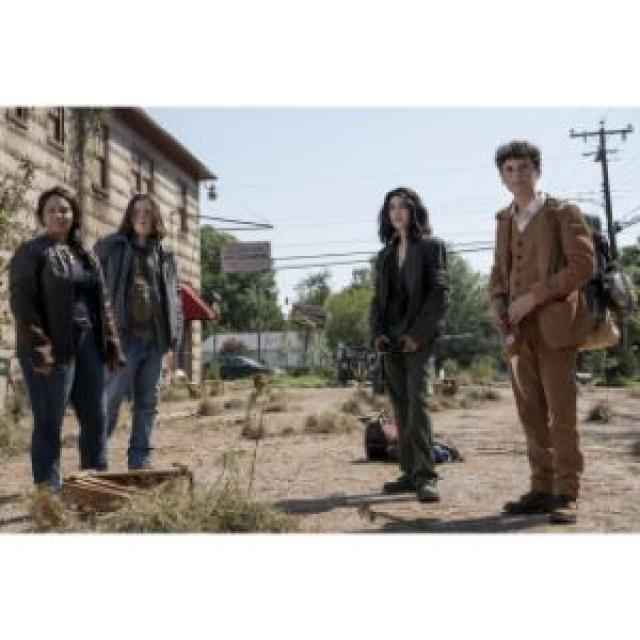nonfall: (482, 144, 626, 515), (342, 192, 478, 507), (8, 198, 124, 469), (112, 190, 208, 470)
